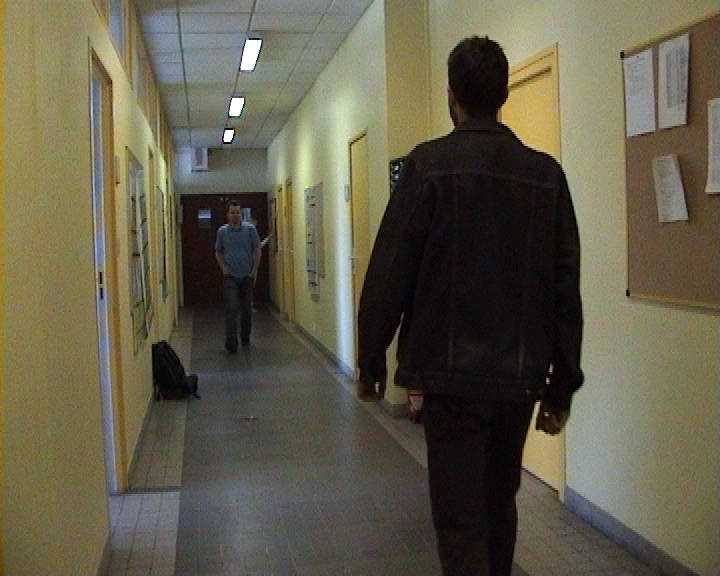leave bag unattended: (137, 329, 216, 424)
